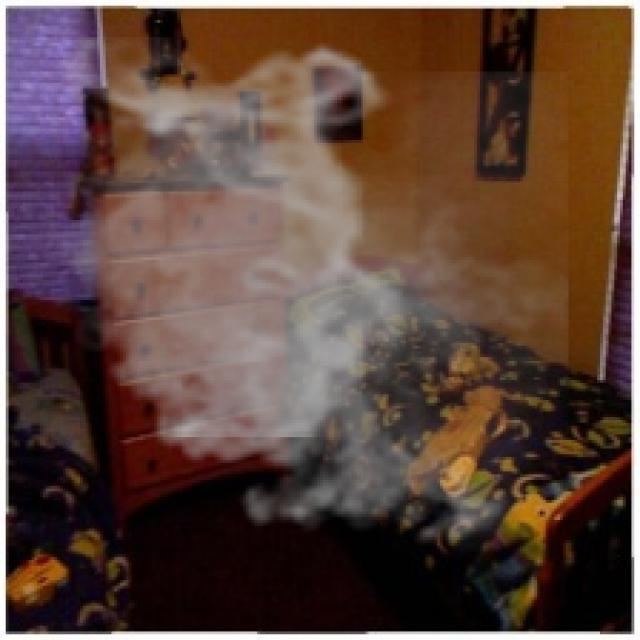Smoke: (37, 37, 569, 560)
